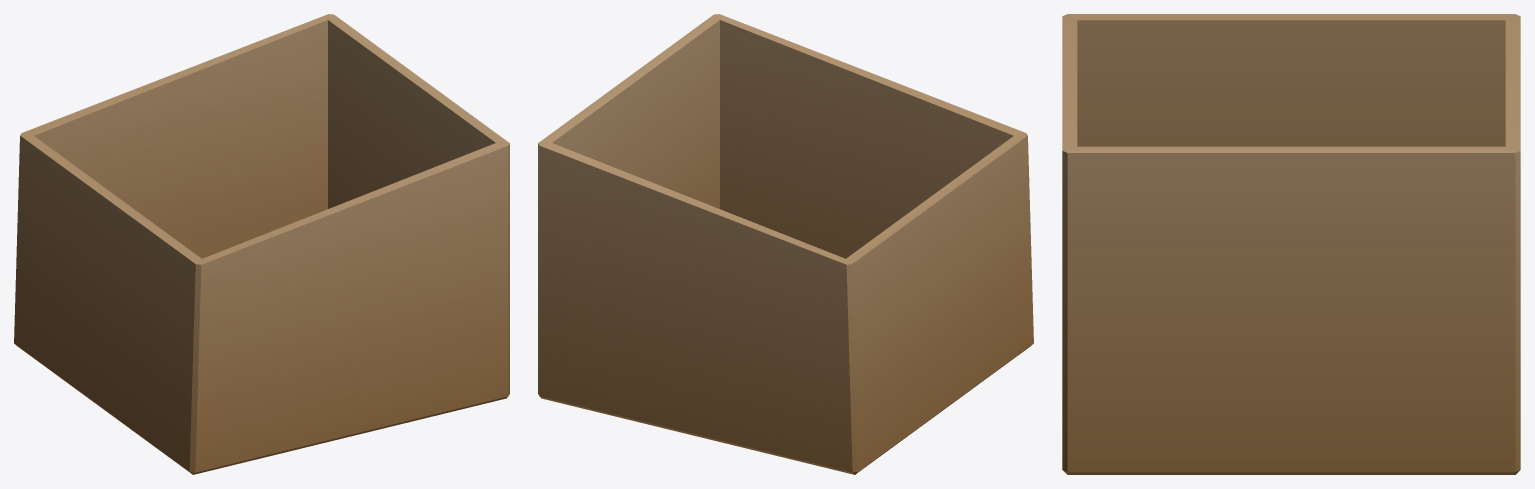
File: CardboardBox3.fbx
3 views of the same model, side by side, from view 1: azimuth 30°, elevation 25°; view 2: azimuth 150°, elevation 25°; view 3: azimuth 270°, elevation 25° (orthographic). The views are drawn at different scales.
Visible parts, largest first — view 1: Box3; view 2: Box3; view 3: Box3.
Part boxes in pixels (x1=…): Box3: x1=14, y1=14, x2=509, y2=474; Box3: x1=538, y1=14, x2=1033, y2=474; Box3: x1=1062, y1=14, x2=1520, y2=474.
Size of the model in its own units: 103 by 78.14 by 100.
